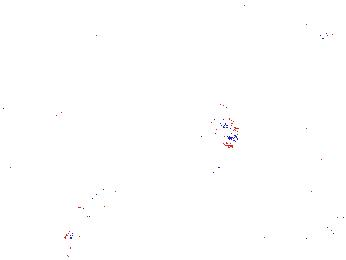X-ray fish: (205, 97, 241, 150)
glassfish: (61, 162, 133, 250), (195, 137, 273, 193)
red belly glassfish: (303, 15, 329, 40)
redtail glassfish: (175, 123, 259, 145)
